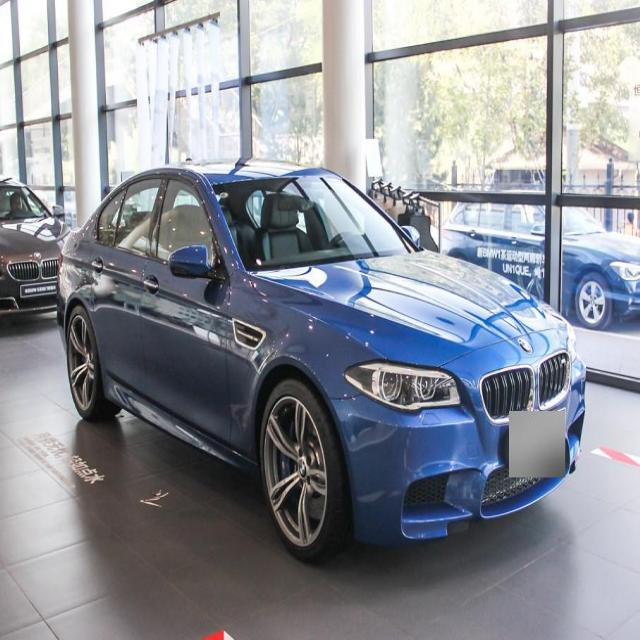door: (94, 178, 166, 390)
front_bumper: (322, 361, 587, 547)
front_glass: (212, 173, 422, 280)
front_right_side_door: (137, 169, 235, 462)
front_right_side_light: (341, 357, 461, 416), (564, 317, 580, 369)
front_right_side_mirror: (166, 244, 212, 284), (402, 220, 425, 252)
wheel: (258, 375, 353, 560), (65, 309, 123, 419)
